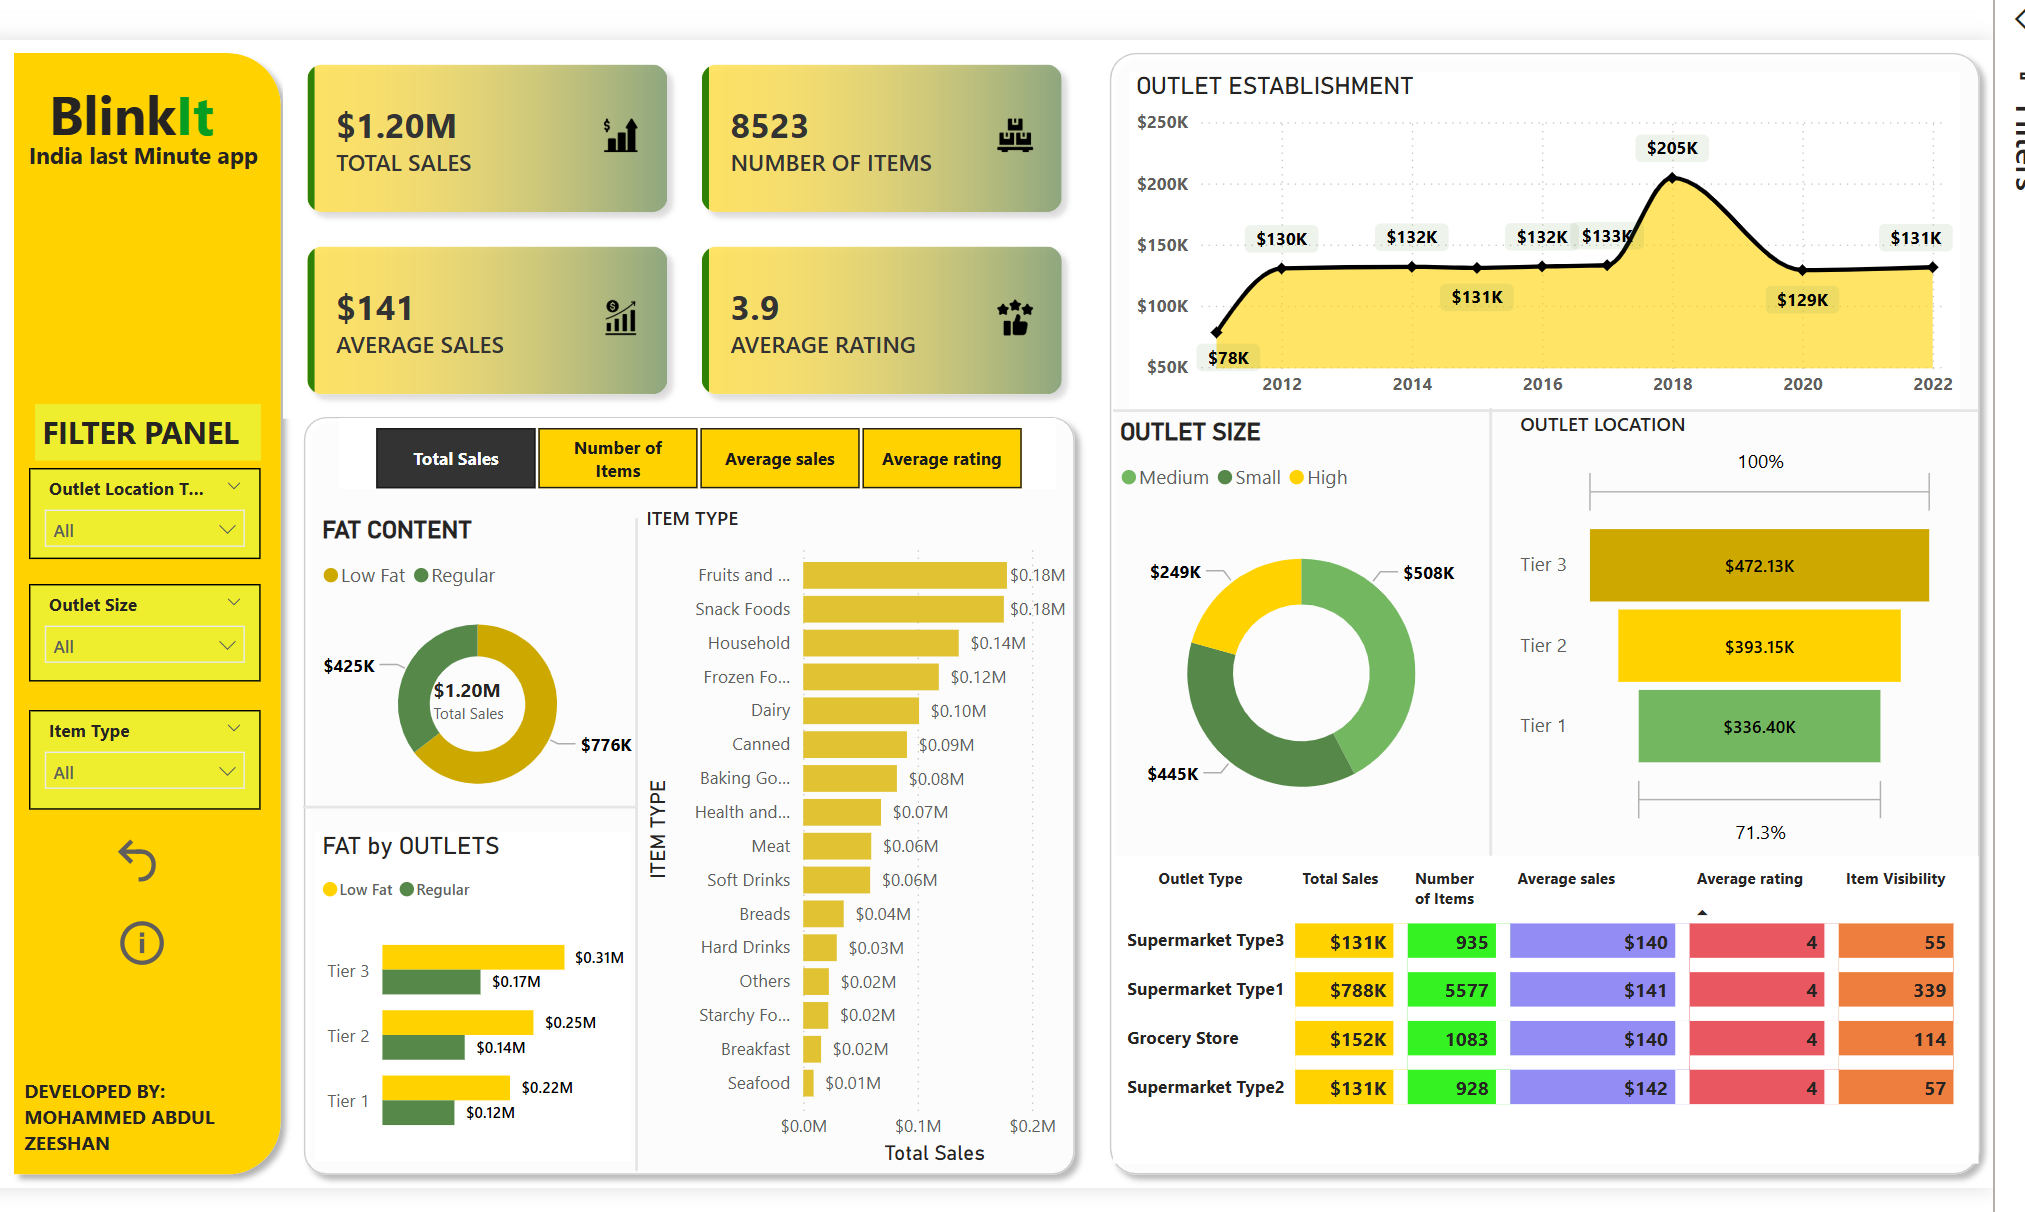

The dashboard page shown, as its layout file describes it:
{"tool":"powerbi","page":{"name":"Blinkit Dashboard","canvas":[1400,800],"ordinal":0},"visuals":[{"type":"shape","box":[10.5,0,204.1,800],"z":0},{"type":"textbox","box":[0,21,204.1,60],"z":1000},{"type":"textbox","box":[18,64.5,184.6,37.5],"z":2000},{"type":"cardVisual","fields":{"Data":["BlinkIT Grocery Data.Toatal Sales","BlinkIT Grocery Data.Number of Items","BlinkIT Grocery Data.Average sales","BlinkIT Grocery Data.Average rating"]},"box":[207.1,0,561.3,264.2],"z":3000},{"type":"shape","box":[213.1,253.6,555.3,546.3],"z":4000},{"type":"donutChart","title":"FAT CONTENT","fields":{"Y":["BlinkIT Grocery Data.Total Sales"],"Category":["BlinkIT Grocery Data.Item Fat Content"]},"box":[229.6,331.7,226.6,211.6],"z":5000},{"type":"slicer","fields":{"Values":["Metrics.Metrics"]},"box":[246.1,264.2,499.8,49.5],"z":6000},{"type":"cardVisual","fields":{"Data":["BlinkIT Grocery Data.Total Sales","BlinkIT Grocery Data.Total Sales"]},"box":[295.7,426.2,108.1,66],"z":7000},{"type":"clusteredBarChart","title":"FAT by OUTLETS","fields":{"Y":["BlinkIT Grocery Data.Total Sales"],"Category":["BlinkIT Grocery Data.Outlet Location Type"],"Series":["BlinkIT Grocery Data.Item Fat Content"]},"box":[229.6,552.3,220.6,229.6],"z":8000},{"type":"shape","box":[222.1,529.8,233.3,9.9],"z":9000},{"type":"shape","box":[440.4,333.7,27.3,455.3],"z":10000},{"type":"shape","box":[775.9,0,624.4,800],"z":11000},{"type":"barChart","title":"ITEM TYPE","fields":{"Y":["BlinkIT Grocery Data.Total Sales"],"Category":["BlinkIT Grocery Data.Item Type"]},"box":[456.3,324.2,319.7,465.3],"z":12000},{"type":"lineChart","title":"OUTLET ESTABLISHMENT","fields":{"Y":["BlinkIT Grocery Data.Total Sales"],"Category":["BlinkIT Grocery Data.Outlet Establishment Year"]},"box":[797,22.5,579.3,235.6],"z":13000},{"type":"shape","box":[786.5,232.6,603.3,51],"z":14000},{"type":"donutChart","title":"OUTLET SIZE","fields":{"Y":["BlinkIT Grocery Data.Total Sales"],"Category":["BlinkIT Grocery Data.Outlet Size"]},"box":[786.5,264.2,262.7,304.7],"z":15000},{"type":"shape","box":[1032.6,256.6,33,312.2],"z":16000},{"type":"funnel","title":"OUTLET LOCATION","fields":{"Y":["Sum(BlinkIT Grocery Data.Sales)"],"Category":["BlinkIT Grocery Data.Outlet Location Type"]},"box":[1065.6,258.1,300.2,310.7],"z":17000},{"type":"pivotTable","fields":{"Rows":["BlinkIT Grocery Data.Outlet Type"],"Values":["BlinkIT Grocery Data.Total Sales","BlinkIT Grocery Data.Number of Items","BlinkIT Grocery Data.Average sales","BlinkIT Grocery Data.Average rating","Sum(BlinkIT Grocery Data.Item Visibility)"]},"box":[786.5,568.8,603.3,214.6],"z":18000},{"type":"slicer","fields":{"Values":["BlinkIT Grocery Data.Outlet Location Type"]},"box":[31,297.8,161.3,63.3],"z":19000},{"type":"slicer","fields":{"Values":["BlinkIT Grocery Data.Outlet Size"]},"box":[31,379.7,161.3,68.2],"z":20000},{"type":"slicer","fields":{"Values":["BlinkIT Grocery Data.Item Type"]},"box":[31,466.5,161.3,69.5],"z":21000},{"type":"textbox","box":[34.7,253.1,157.6,39.7],"z":22000},{"type":"actionButton","box":[86.5,552,50.9,39.4],"z":23000},{"type":"actionButton","box":[88.6,609.4,51,40.5],"z":24000},{"type":"textbox","box":[22.3,718.1,177.1,83.7],"z":24001}]}

Visuals, with their boxes on the page's 1400x800 design canvas (x1, y1, x2, y2). These are canvas units, not pixel positions in the 2025x1212 screenshot, which may show the page scaled, cropped or inside an application window:
shape: (left=10, top=0, right=215, bottom=800)
textbox: (left=0, top=21, right=204, bottom=81)
textbox: (left=18, top=64, right=203, bottom=102)
cardVisual - BlinkIT Grocery Data.Toatal Sales x BlinkIT Grocery Data.Number of Items: (left=207, top=0, right=768, bottom=264)
shape: (left=213, top=254, right=768, bottom=800)
"FAT CONTENT" donutChart: (left=230, top=332, right=456, bottom=543)
slicer - Metrics.Metrics: (left=246, top=264, right=746, bottom=314)
cardVisual - BlinkIT Grocery Data.Total Sales x BlinkIT Grocery Data.Total Sales: (left=296, top=426, right=404, bottom=492)
"FAT by OUTLETS" clusteredBarChart: (left=230, top=552, right=450, bottom=782)
shape: (left=222, top=530, right=455, bottom=540)
shape: (left=440, top=334, right=468, bottom=789)
shape: (left=776, top=0, right=1400, bottom=800)
"ITEM TYPE" barChart: (left=456, top=324, right=776, bottom=790)
"OUTLET ESTABLISHMENT" lineChart: (left=797, top=22, right=1376, bottom=258)
shape: (left=786, top=233, right=1390, bottom=284)
"OUTLET SIZE" donutChart: (left=786, top=264, right=1049, bottom=569)
shape: (left=1033, top=257, right=1066, bottom=569)
"OUTLET LOCATION" funnel: (left=1066, top=258, right=1366, bottom=569)
pivotTable - BlinkIT Grocery Data.Outlet Type x BlinkIT Grocery Data.Total Sales: (left=786, top=569, right=1390, bottom=783)
slicer - BlinkIT Grocery Data.Outlet Location Type: (left=31, top=298, right=192, bottom=361)
slicer - BlinkIT Grocery Data.Outlet Size: (left=31, top=380, right=192, bottom=448)
slicer - BlinkIT Grocery Data.Item Type: (left=31, top=466, right=192, bottom=536)
textbox: (left=35, top=253, right=192, bottom=293)
actionButton: (left=86, top=552, right=137, bottom=591)
actionButton: (left=89, top=609, right=140, bottom=650)
textbox: (left=22, top=718, right=199, bottom=802)
